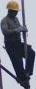boots: (0, 9, 6, 18)
gloves: (0, 0, 5, 4)
hard-hat: (6, 0, 19, 11)
